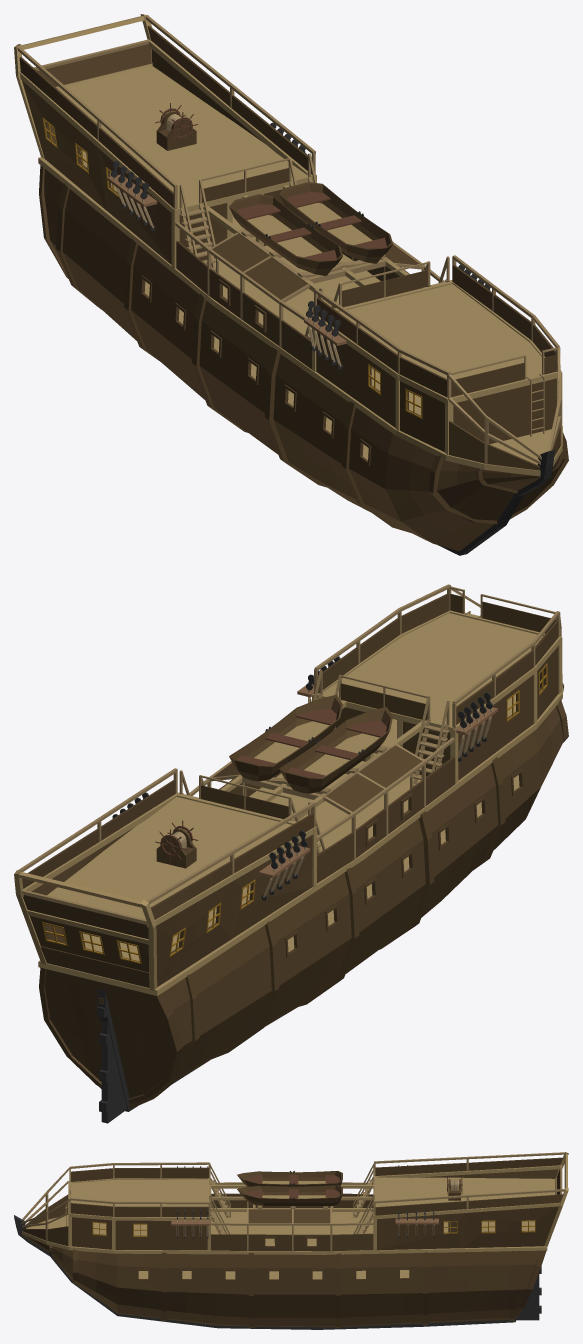
Rendered from Destroyable Ship Level 4.fbx.
The picture shows the model from 3 angles, top to bottom: view 1: azimuth 30°, elevation 25°; view 2: azimuth 150°, elevation 25°; view 3: azimuth 270°, elevation 25°; orthographic projection. The views are drawn at different scales.
Visible parts, largest first — view 1: Ship_3_2_2_6, Ship_9_1_2_6, Ship_3_2_2_7, Ship_8_1_2_7, Ship_5_2_1_34, Ship_9_1_1_13, Ship_8_1_1_12, ship_1_1_2_30, Ship_4_2_2_34; view 2: Ship_11_2_2_3, Ship_6_2_2_26, Ship_6_1_2_28, Ship_5_2_1_34, Ship_5_2_1_35, Ship_6_1_2_26; view 3: Ship_8_2_2_7, Ship_11_2_2_3, Ship_8_2_1_12, Ship_8_2_2_2, ship_1_1_2_9, Ship_8_2_2_1, Ship_10_2_1_4, Ship_8_2_1_7, Ship_5_1_1_49, Ship_4_2_2_6, Ship_9_2_1_5, Ship_5_1_1_47 (+94 smaller).
Part boxes in pixels (x1,y1,x2,y2): Ship_3_2_2_6: (449,421,484,463); Ship_9_1_2_6: (437,485,485,521); Ship_3_2_2_7: (487,444,540,470); Ship_8_1_2_7: (276,354,307,394); Ship_5_2_1_34: (244,257,289,286); Ship_9_1_1_13: (401,516,451,543); Ship_8_1_1_12: (303,373,333,412); ship_1_1_2_30: (87,51,121,78); Ship_4_2_2_34: (504,408,530,440); Ship_11_2_2_3: (101,1065,127,1123); Ship_6_2_2_26: (45,986,81,1038); Ship_6_1_2_28: (141,1016,171,1054); Ship_5_2_1_34: (359,759,403,787); Ship_5_2_1_35: (377,745,421,774); Ship_6_1_2_26: (114,1028,139,1065); Ship_8_2_2_7: (217,1254,248,1268); Ship_11_2_2_3: (516,1290,539,1320); Ship_8_2_1_12: (187,1254,216,1267); Ship_8_2_2_2: (217,1282,248,1294); ship_1_1_2_9: (530,1206,558,1221); Ship_8_2_2_1: (217,1293,248,1305); Ship_10_2_1_4: (217,1304,248,1317); Ship_8_2_1_7: (187,1268,216,1282); Ship_5_1_1_49: (352,1233,373,1250); Ship_4_2_2_6: (47,1226,68,1245); Ship_9_2_1_5: (117,1266,142,1282); Ship_5_1_1_47: (332,1234,352,1251).
Size of the model in its own units: 6.4 by 9.68 by 30.63.
